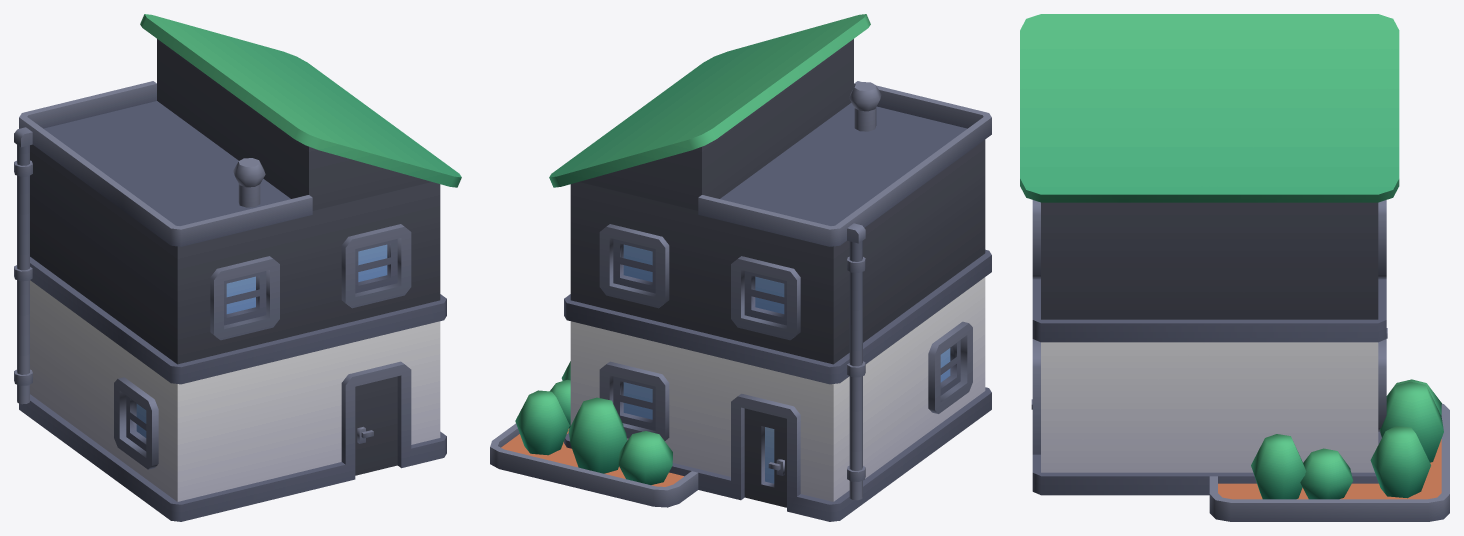
Rendered from house_suburb_l.glb.
The picture shows the model from 3 angles, left to right: view 1: azimuth 30°, elevation 25°; view 2: azimuth 150°, elevation 25°; view 3: azimuth 270°, elevation 25°; orthographic projection. The views are drawn at different scales.
Parts seen in each view (by area): view 1: building-type-l; view 2: building-type-l; view 3: building-type-l.
Boxes of the visible parts, bbox=[...] form: building-type-l: bbox=[14, 14, 461, 521]; building-type-l: bbox=[490, 14, 991, 521]; building-type-l: bbox=[1020, 14, 1449, 521].
Size of the model in its own units: 1.03 by 1.05 by 1.02.
1 material, 1 textured.
